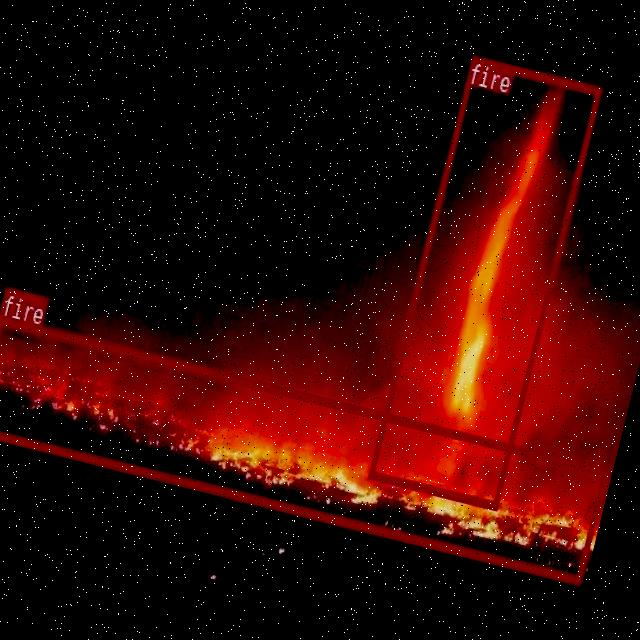fire: (0, 315, 607, 582), (368, 54, 602, 508)
